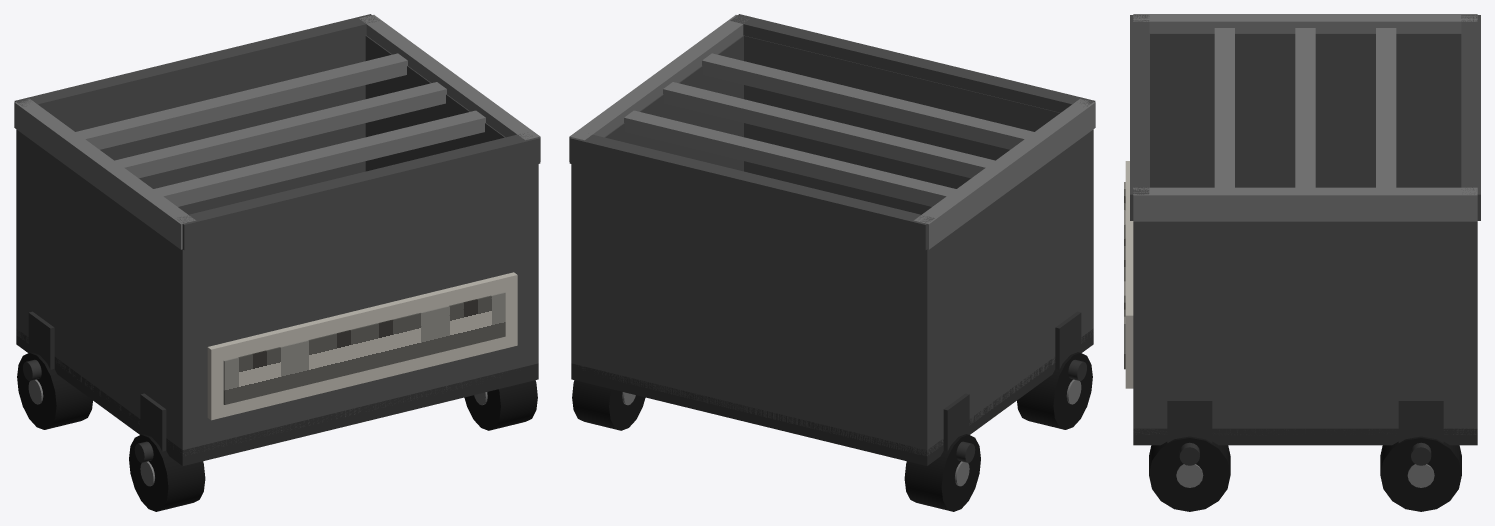
Rendered from CMU3DInheritedCratesMinecartCloud.glb.
The picture shows the model from 3 angles, left to right: view 1: azimuth 30°, elevation 25°; view 2: azimuth 150°, elevation 25°; view 3: azimuth 270°, elevation 25°; orthographic projection. The views are drawn at different scales.
Parts seen in each view (by area): view 1: front structural wall, side structural wall -1, rear structural wall, original front slot pattern, upper end rim -1, front inset pale trim, bottom structural pan, closed-pose physical top grate rib 0, closed-pose physical top grate rib 2, closed-pose physical top grate rib 1, upper end rim 1, upper lateral rim -1 (+7 smaller); view 2: rear structural wall, side structural wall -1, front structural wall, upper end rim 1, closed-pose physical top grate rib 0, closed-pose physical top grate rib 2, closed-pose physical top grate rib 1, bottom structural pan, upper end rim -1, upper lateral rim -1, side structural wall 1, upper lateral rim 1 (+5 smaller); view 3: side structural wall 1, side structural wall -1, upper lateral rim 1, upper lateral rim -1, bottom structural pan, ground-contact wheel 1 0.215, ground-contact wheel 1 -0.215, front structural wall, upper end rim -1, upper end rim 1, rear structural wall, closed-pose physical top grate rib 0 (+7 smaller).
Boxes of the visible parts, x1=… form: front structural wall: x1=174, y1=164, x2=538, y2=455; side structural wall -1: x1=16, y1=130, x2=197, y2=454; rear structural wall: x1=16, y1=35, x2=365, y2=339; original front slot pattern: x1=223, y1=292, x2=505, y2=404; upper end rim -1: x1=177, y1=132, x2=540, y2=250; front inset pale trim: x1=207, y1=272, x2=517, y2=420; bottom structural pan: x1=16, y1=328, x2=538, y2=465; closed-pose physical top grate rib 0: x1=153, y1=110, x2=485, y2=206; closed-pose physical top grate rib 2: x1=76, y1=53, x2=407, y2=149; closed-pose physical top grate rib 1: x1=115, y1=82, x2=446, y2=178; upper end rim 1: x1=14, y1=14, x2=379, y2=117; upper lateral rim -1: x1=14, y1=98, x2=195, y2=249; rear structural wall: x1=571, y1=164, x2=934, y2=455; side structural wall -1: x1=912, y1=130, x2=1093, y2=456; front structural wall: x1=744, y1=35, x2=1093, y2=329; upper end rim 1: x1=569, y1=134, x2=934, y2=250; closed-pose physical top grate rib 0: x1=702, y1=53, x2=1033, y2=149; closed-pose physical top grate rib 2: x1=624, y1=110, x2=956, y2=206; closed-pose physical top grate rib 1: x1=663, y1=82, x2=994, y2=178; bottom structural pan: x1=571, y1=328, x2=1093, y2=465; upper end rim -1: x1=730, y1=14, x2=1095, y2=112; upper lateral rim -1: x1=914, y1=98, x2=1095, y2=249; side structural wall 1: x1=571, y1=35, x2=743, y2=370; upper lateral rim 1: x1=569, y1=15, x2=748, y2=161; side structural wall 1: x1=1133, y1=221, x2=1477, y2=434; side structural wall -1: x1=1150, y1=33, x2=1461, y2=187; upper lateral rim 1: x1=1133, y1=187, x2=1477, y2=221; upper lateral rim -1: x1=1133, y1=14, x2=1477, y2=33; bottom structural pan: x1=1133, y1=428, x2=1477, y2=445; ground-contact wheel 1 0.215: x1=1380, y1=436, x2=1461, y2=511; ground-contact wheel 1 -0.215: x1=1149, y1=436, x2=1230, y2=511; front structural wall: x1=1133, y1=33, x2=1149, y2=434; upper end rim -1: x1=1130, y1=15, x2=1149, y2=220; upper end rim 1: x1=1461, y1=15, x2=1480, y2=220; rear structural wall: x1=1461, y1=221, x2=1477, y2=434; closed-pose physical top grate rib 0: x1=1214, y1=28, x2=1234, y2=187.
Bounding box in the file's own units: 0.86 × 0.644 × 0.663.
Materials: 6 (1 with a texture image).
